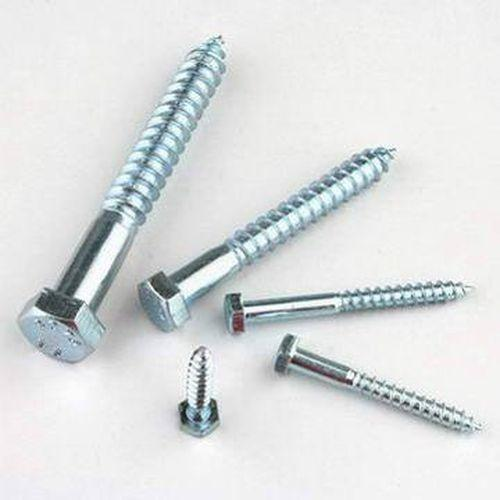Tornillo: (14, 31, 230, 362), (133, 144, 404, 334), (270, 329, 490, 438), (217, 278, 477, 331), (171, 347, 227, 440)
